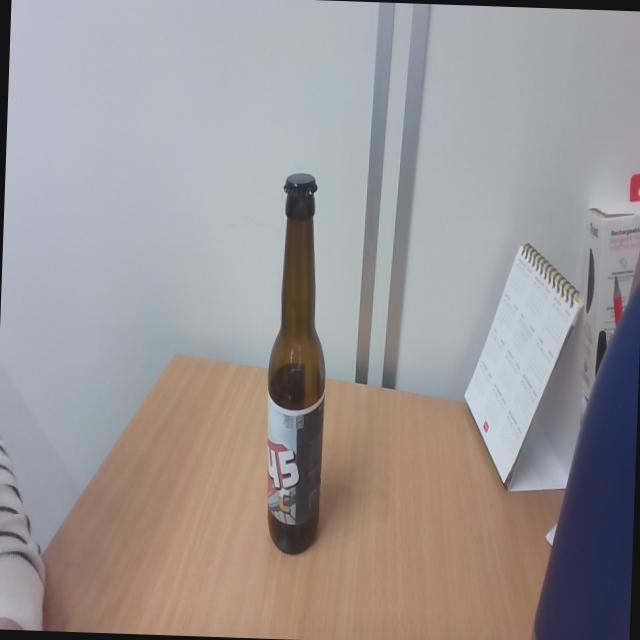Bottle: (261, 171, 334, 556)
Cap: (280, 169, 321, 201)
Label: (260, 402, 324, 526)
